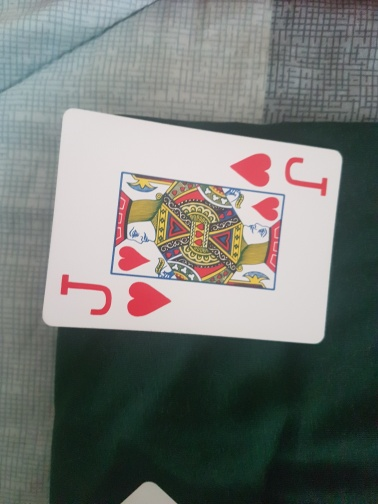jack: (43, 108, 344, 344)
